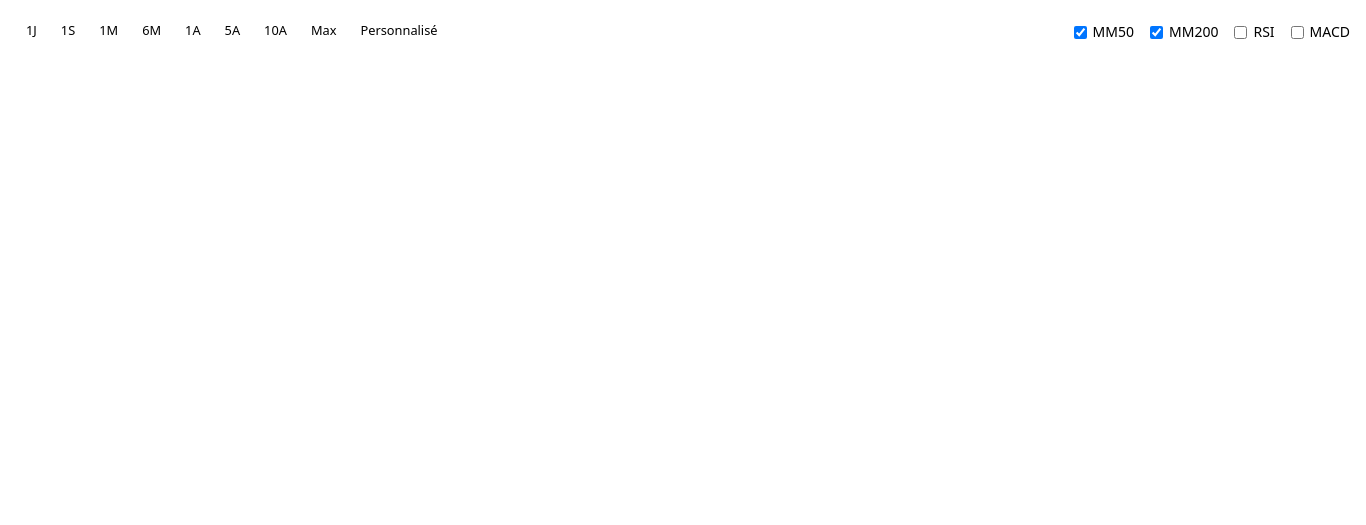
Test: indique le chargement d'une longue période
Click the button "Max". click: (324, 30)
box: [301,16,346,44]
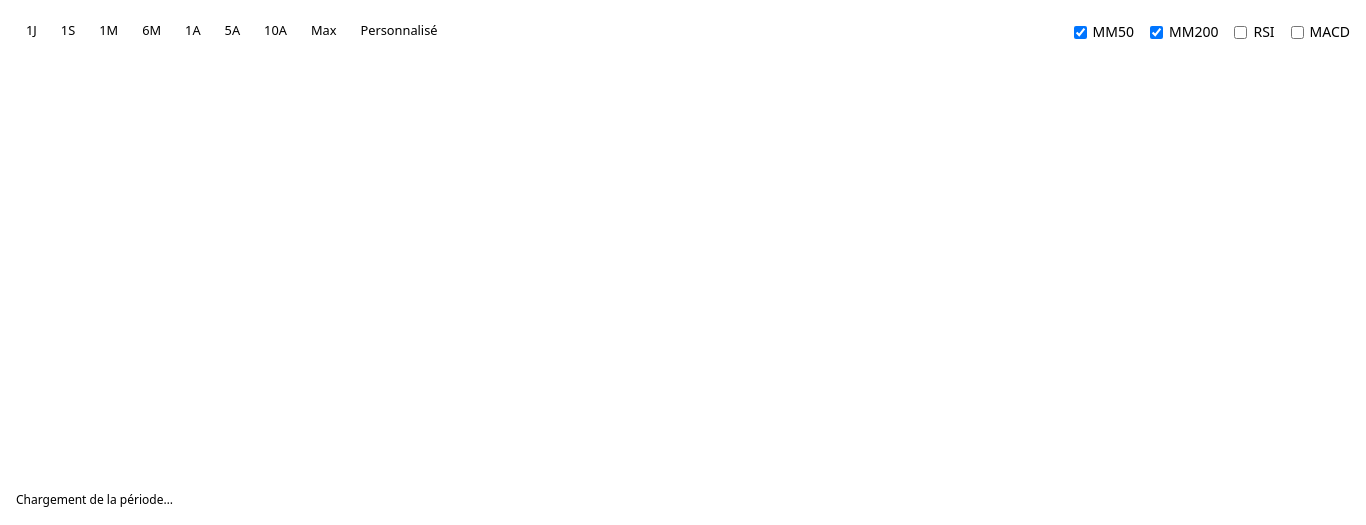
Expected: the text "Chargement de la période…" is shown, [16,491,173,508]
